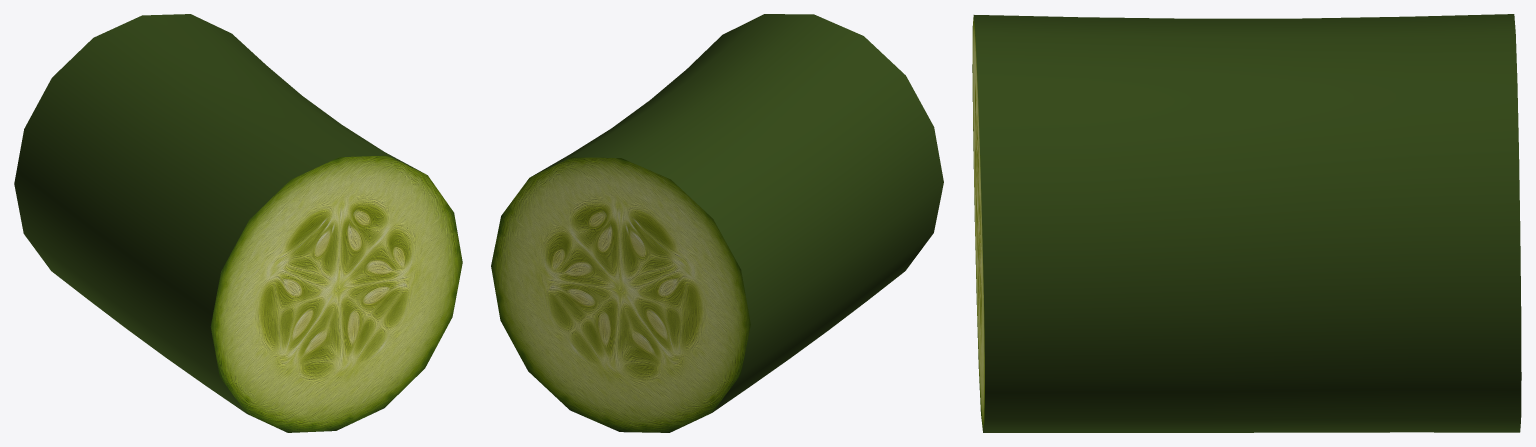
Rendered from cucumber.fbx.
The picture shows the model from 3 angles, left to right: view 1: azimuth 30°, elevation 25°; view 2: azimuth 150°, elevation 25°; view 3: azimuth 270°, elevation 25°; orthographic projection. The views are drawn at different scales.
Parts seen in each view (by area): view 1: Cucumber; view 2: Cucumber; view 3: Cucumber.
Part boxes in pixels (left/top/right/bottom): Cucumber: left=14, top=14, right=462, bottom=432; Cucumber: left=491, top=14, right=943, bottom=432; Cucumber: left=972, top=14, right=1521, bottom=432.
Bounding box in the file's own units: 0.2045 × 0.1534 × 0.1573.
